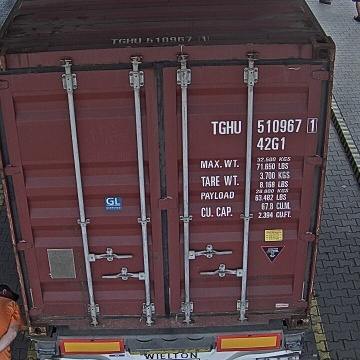serial_id: (211, 118, 317, 133)
